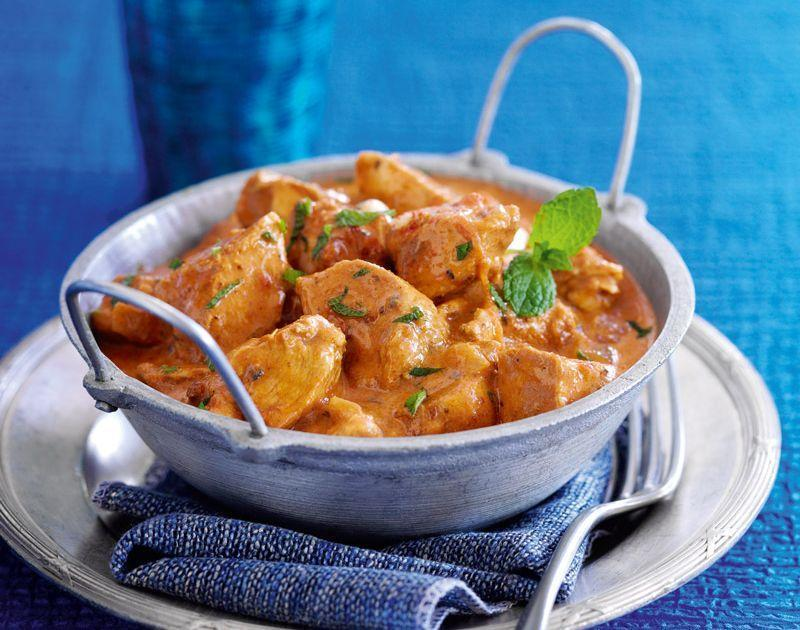chicken: (127, 188, 643, 411)
